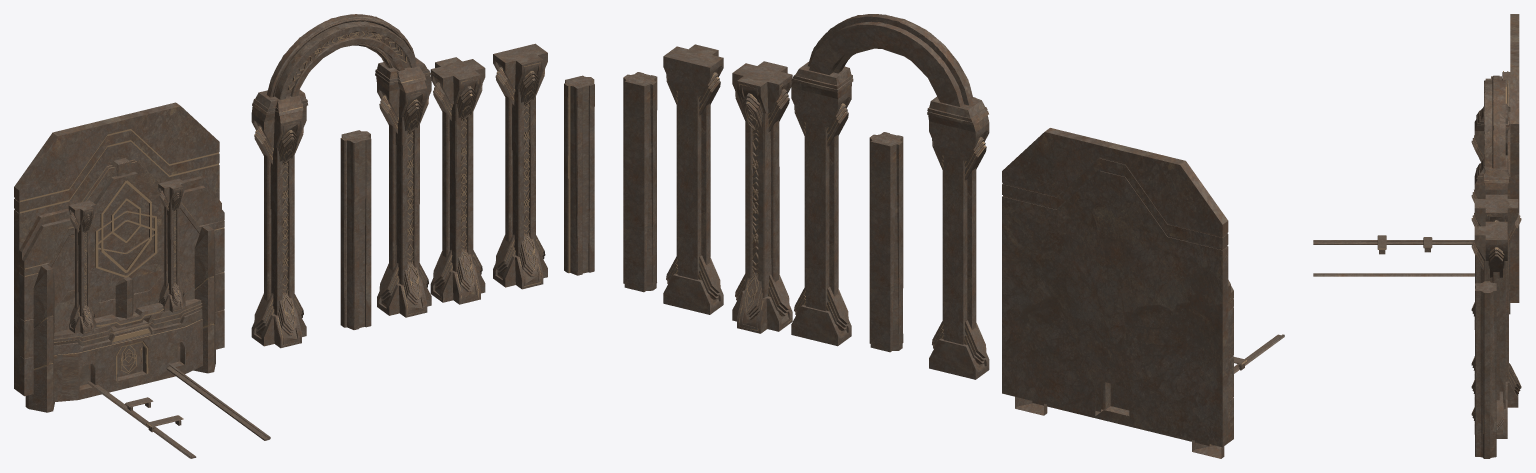
Rendered from Dwarven_Pillars_A1.fbx.
3 views of the same model, side by side, from view 1: azimuth 30°, elevation 25°; view 2: azimuth 150°, elevation 25°; view 3: azimuth 270°, elevation 25° (orthographic). The views are drawn at different scales.
Visible parts, largest first — view 1: Entrance_Wall_A1, Entrance_Wall_A1.001, Dwarven_Pillar_Arch_A1(Wall), Dwarven_Pillar_Arch_A1(Wall).002, Entrance_Wall_A1.002, Dwarven_Pillar_Arch_A1(Wall).001, Dwarven_Pillar_A1, Dwarven_Pillar_A1(Wall), Dwarven_Pillar_B2, Dwarven_Pillar_B1, Dwarven_Pillar_A1(Wall).001, Dwarven_Pillar_A1.001 (+8 smaller); view 2: Entrance_Wall_A1, Entrance_Wall_A1.001, Dwarven_Pillar_Arch_A1(Wall), Dwarven_Pillar_Arch_A1(Wall).001, Dwarven_Pillar_Arch_A1(Wall).002, Dwarven_Pillar_A1(Wall), Dwarven_Pillar_A1, Dwarven_Pillar_A1(Wall).001, Dwarven_Pillar_B2, Dwarven_Pillar_B1, Dwarven_Pillar_A1.002, Dwarven_Pillar_A1.001 (+6 smaller); view 3: Entrance_Wall_A1, Dwarven_Pillar_B2, Dwarven_Pillar_A1(Wall), Dwarven_Pillar_Arch_A1(Wall), Dwarven_Pillar_Arch_A1(Wall).002, Dwarven_Pillar_A1(Wall).001, Dwarven_Pillar_B2.002, Dwarven_Pillar_A1, Entrance_Wall_A1.001, Dwarven_Pillar_A1(Wall).002, Dwarven_Pillar_A1.002, Dwarven_Pillar_Arch_A1(Wall).001 (+6 smaller).
Part boxes in pixels (box(x1,y1,x2,y2)): Entrance_Wall_A1: box(14, 104, 224, 412); Entrance_Wall_A1.001: box(14, 102, 224, 401); Dwarven_Pillar_Arch_A1(Wall): box(252, 14, 431, 348); Dwarven_Pillar_Arch_A1(Wall).002: box(251, 14, 431, 345); Entrance_Wall_A1.002: box(14, 103, 224, 400); Dwarven_Pillar_Arch_A1(Wall).001: box(252, 14, 431, 347); Dwarven_Pillar_A1: box(430, 57, 485, 304); Dwarven_Pillar_A1(Wall): box(493, 43, 547, 289); Dwarven_Pillar_B2: box(564, 75, 594, 275); Dwarven_Pillar_B1: box(340, 130, 370, 329); Dwarven_Pillar_A1(Wall).001: box(493, 44, 547, 288); Dwarven_Pillar_A1.001: box(431, 58, 485, 303); Entrance_Wall_A1: box(1002, 128, 1233, 458); Entrance_Wall_A1.001: box(1002, 128, 1233, 458); Dwarven_Pillar_Arch_A1(Wall): box(791, 14, 989, 379); Dwarven_Pillar_Arch_A1(Wall).001: box(791, 14, 988, 378); Dwarven_Pillar_Arch_A1(Wall).002: box(791, 14, 989, 379); Dwarven_Pillar_A1(Wall): box(663, 44, 723, 314); Dwarven_Pillar_A1: box(732, 61, 792, 333); Dwarven_Pillar_A1(Wall).001: box(663, 44, 723, 314); Dwarven_Pillar_B2: box(623, 72, 656, 291); Dwarven_Pillar_B1: box(869, 132, 902, 352); Dwarven_Pillar_A1.002: box(733, 66, 791, 329); Dwarven_Pillar_A1.001: box(732, 61, 791, 332); Entrance_Wall_A1: box(1485, 14, 1519, 314); Dwarven_Pillar_B2: box(1475, 281, 1496, 458); Dwarven_Pillar_A1(Wall): box(1471, 221, 1507, 433); Dwarven_Pillar_Arch_A1(Wall): box(1471, 75, 1509, 378); Dwarven_Pillar_Arch_A1(Wall).002: box(1471, 78, 1508, 370); Dwarven_Pillar_A1(Wall).001: box(1472, 221, 1507, 433); Dwarven_Pillar_B2.002: box(1475, 282, 1496, 457); Dwarven_Pillar_A1: box(1471, 194, 1521, 407); Entrance_Wall_A1.001: box(1486, 15, 1519, 302); Dwarven_Pillar_A1(Wall).002: box(1471, 222, 1507, 438); Dwarven_Pillar_A1.002: box(1471, 196, 1521, 406); Dwarven_Pillar_Arch_A1(Wall).001: box(1471, 75, 1509, 370).
Size of the model in its own units: 6270 by 3422 by 2274.
